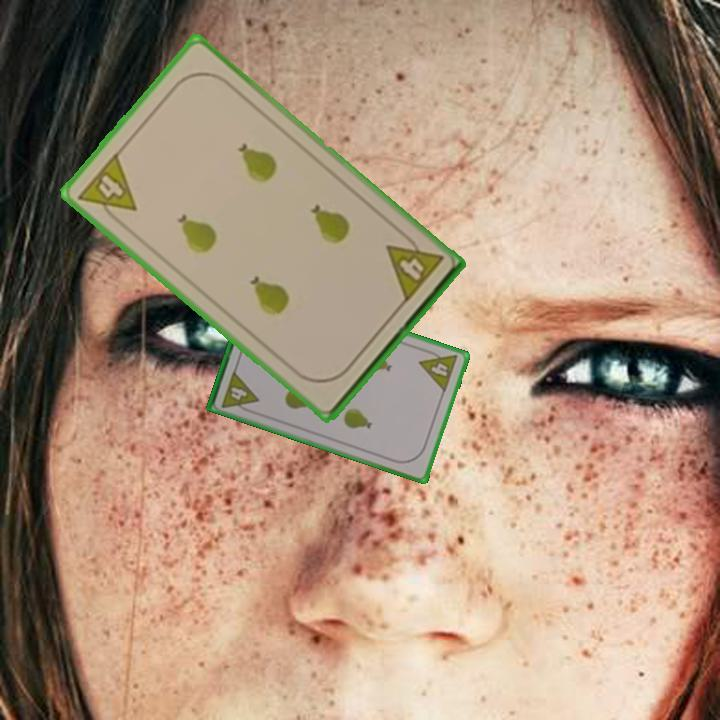4p: (74, 149, 140, 230), (382, 227, 446, 306), (416, 345, 461, 395), (218, 367, 261, 416)
